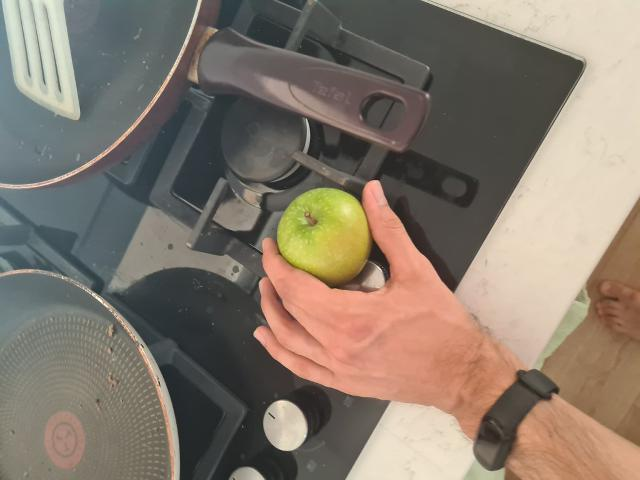apple: (273, 186, 377, 290)
